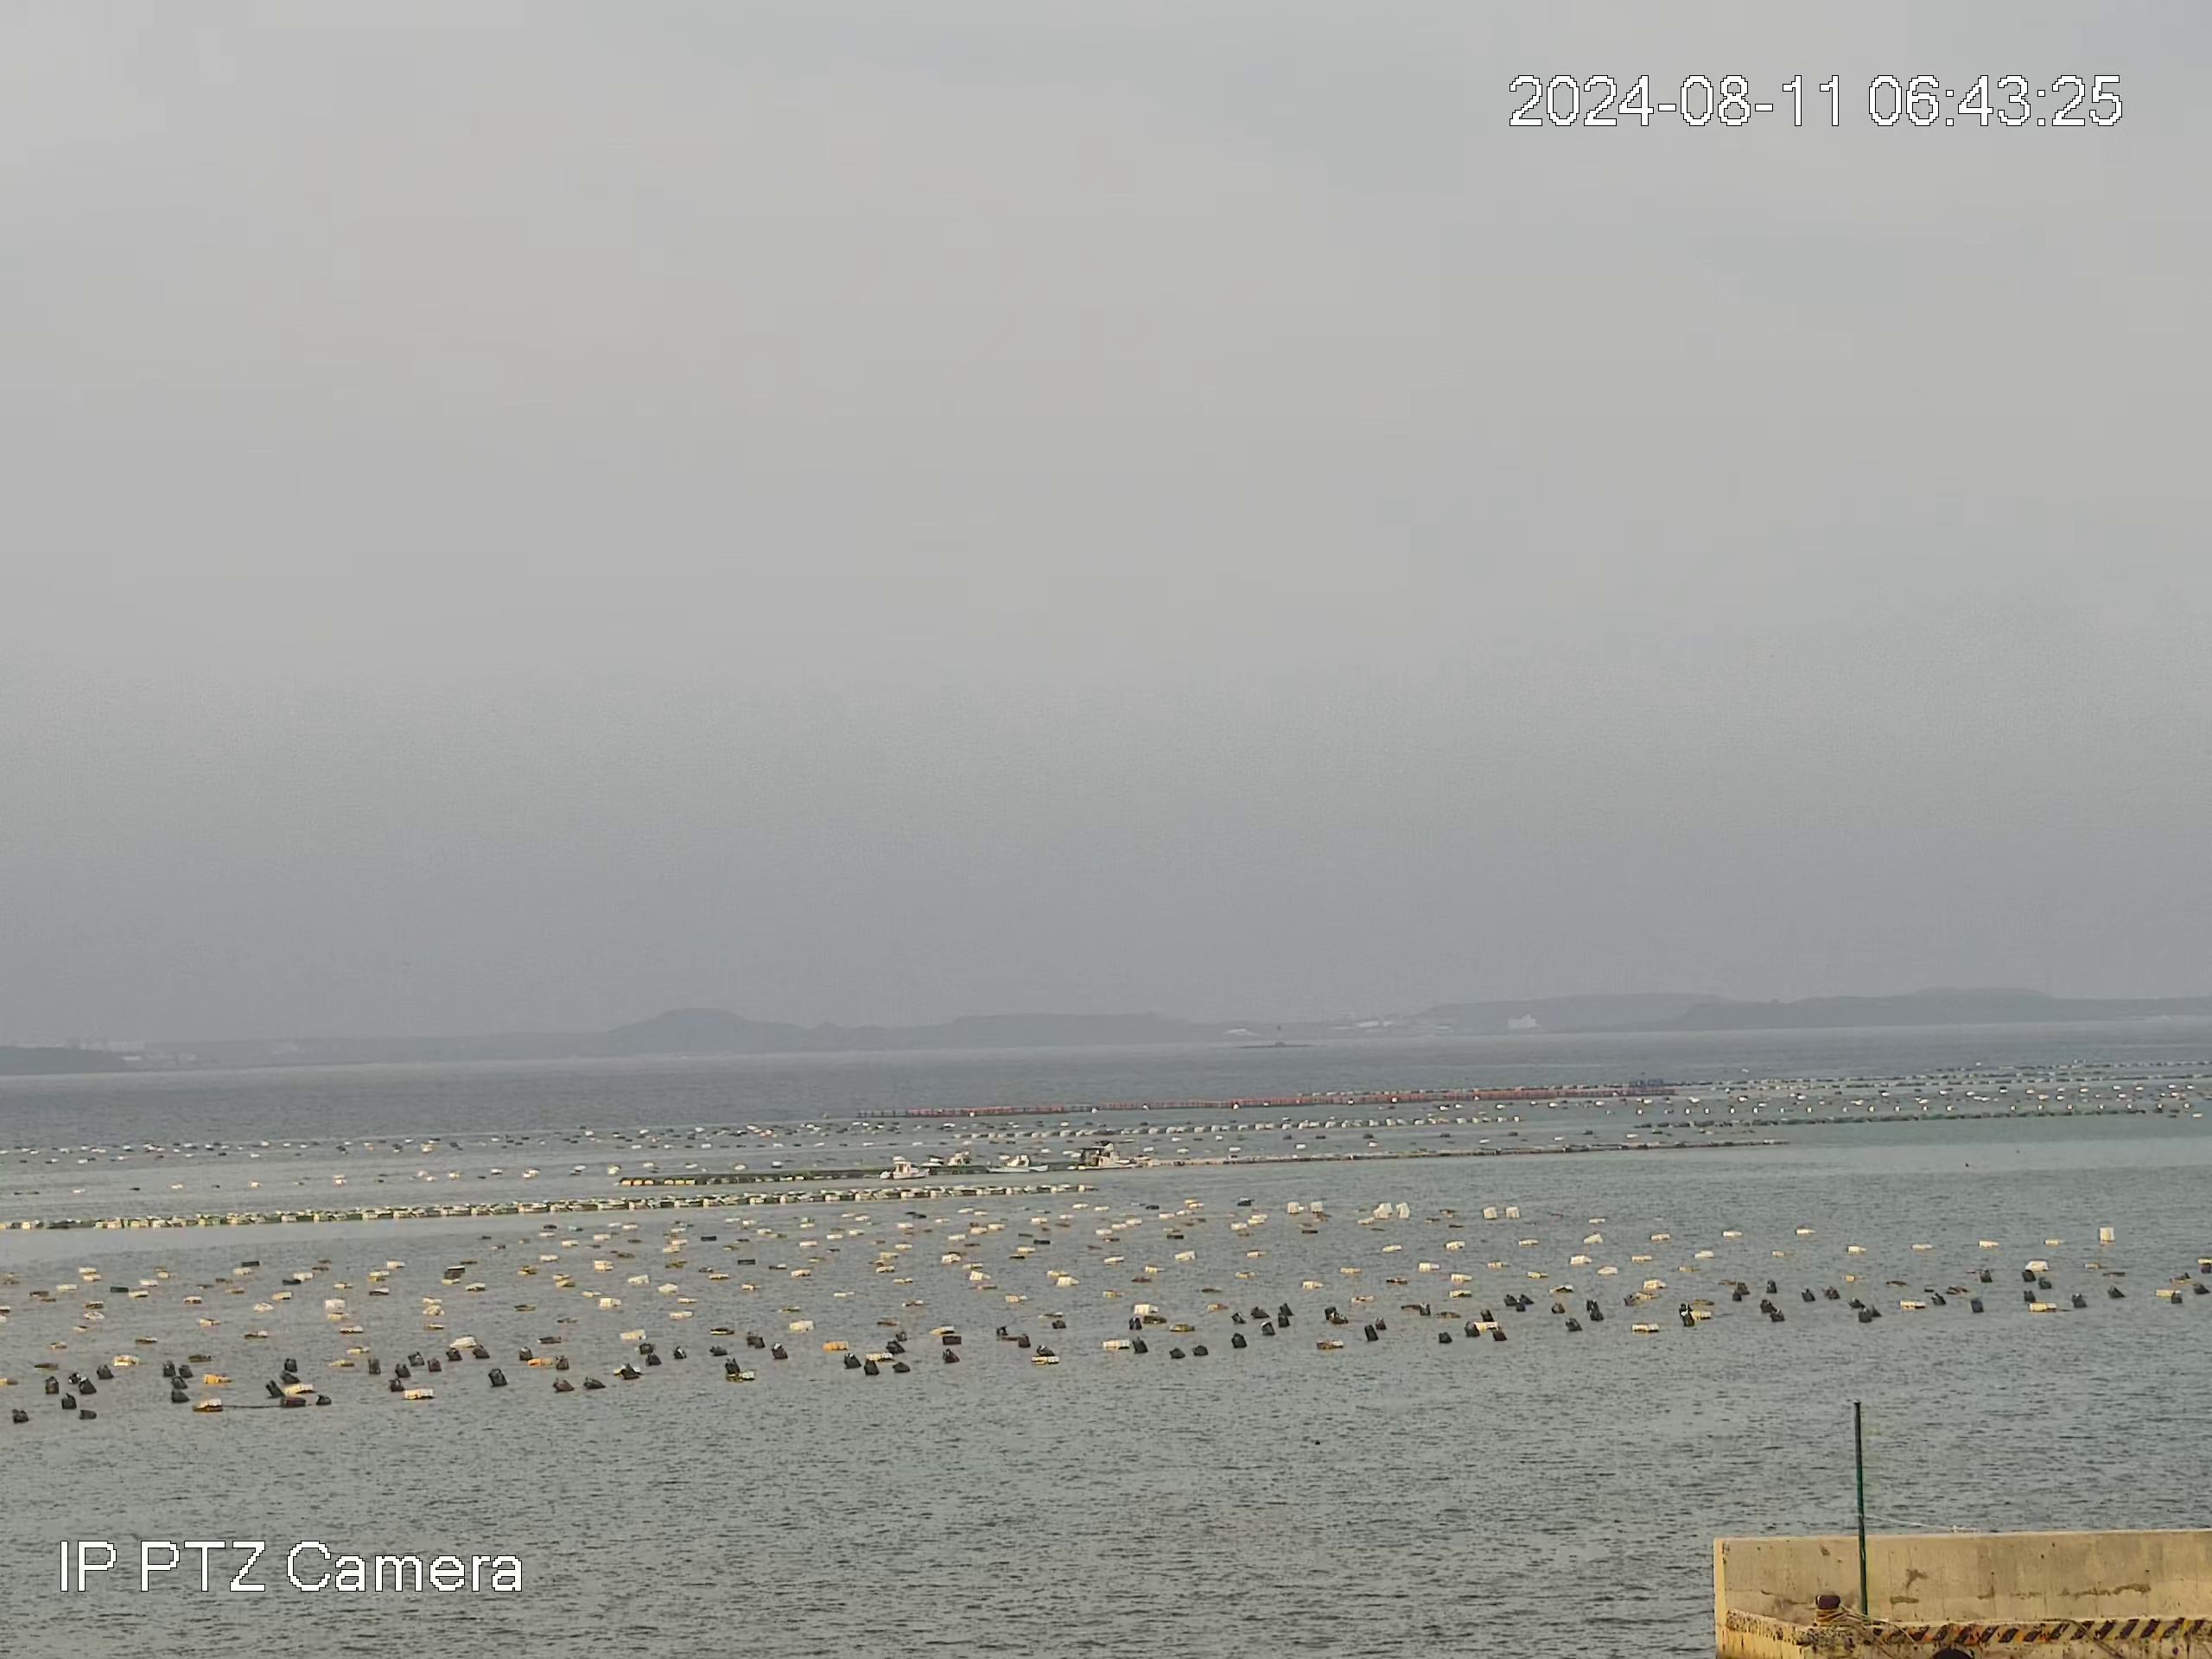boat: (984, 1152, 1050, 1175), (876, 1157, 932, 1180), (1064, 1154, 1116, 1171)
